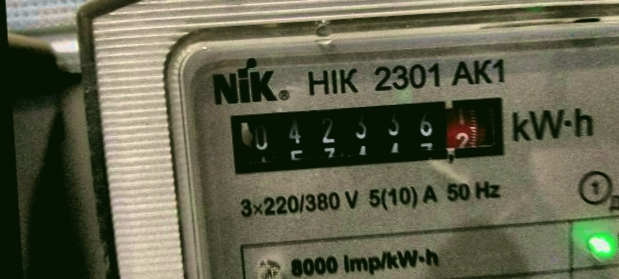0: (248, 122, 266, 151)
1: (451, 103, 464, 126)
2: (316, 114, 334, 144), (450, 129, 467, 148)
3: (380, 107, 398, 138), (348, 111, 365, 140)
4: (282, 115, 301, 145)
6: (414, 106, 433, 137)
screen: (215, 83, 516, 183)
